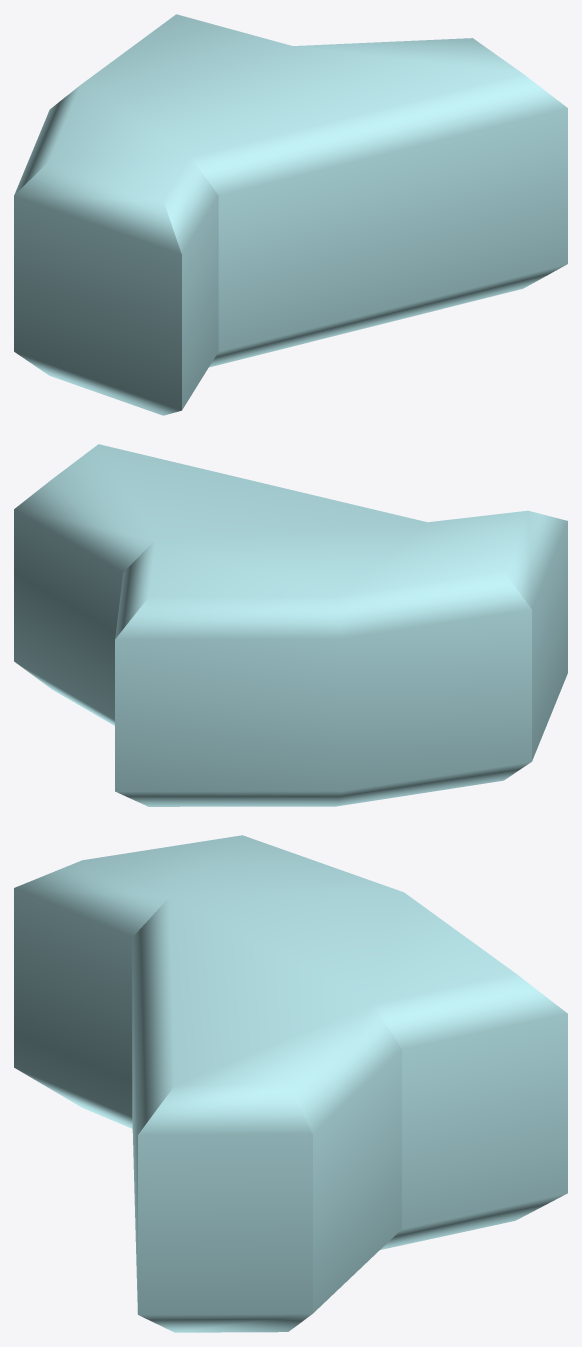
The model's file is ice_floe_small_012.fbx.
3 views of the same model, one above another, from view 1: azimuth 30°, elevation 25°; view 2: azimuth 150°, elevation 25°; view 3: azimuth 270°, elevation 25° (orthographic). The views are drawn at different scales.
Visible parts, largest first — view 1: ice_floe_small_012; view 2: ice_floe_small_012; view 3: ice_floe_small_012.
Boxes of the visible parts, x1=… form: ice_floe_small_012: x1=14, y1=14, x2=567, y2=415; ice_floe_small_012: x1=14, y1=444, x2=567, y2=806; ice_floe_small_012: x1=14, y1=835, x2=567, y2=1332.
Size of the model in its own units: 171 by 141 by 69.62.
